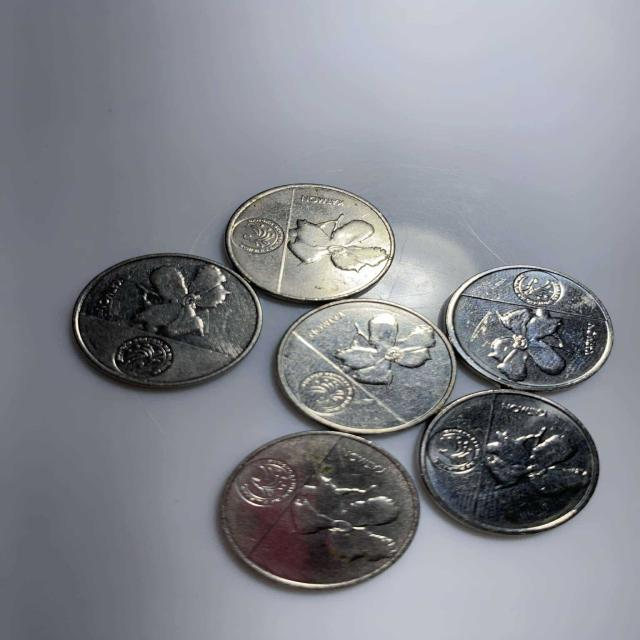25Cent_New_Back: (268, 461, 404, 561), (476, 408, 590, 504), (469, 290, 582, 386), (115, 260, 243, 340), (272, 209, 396, 278), (338, 308, 442, 388)
